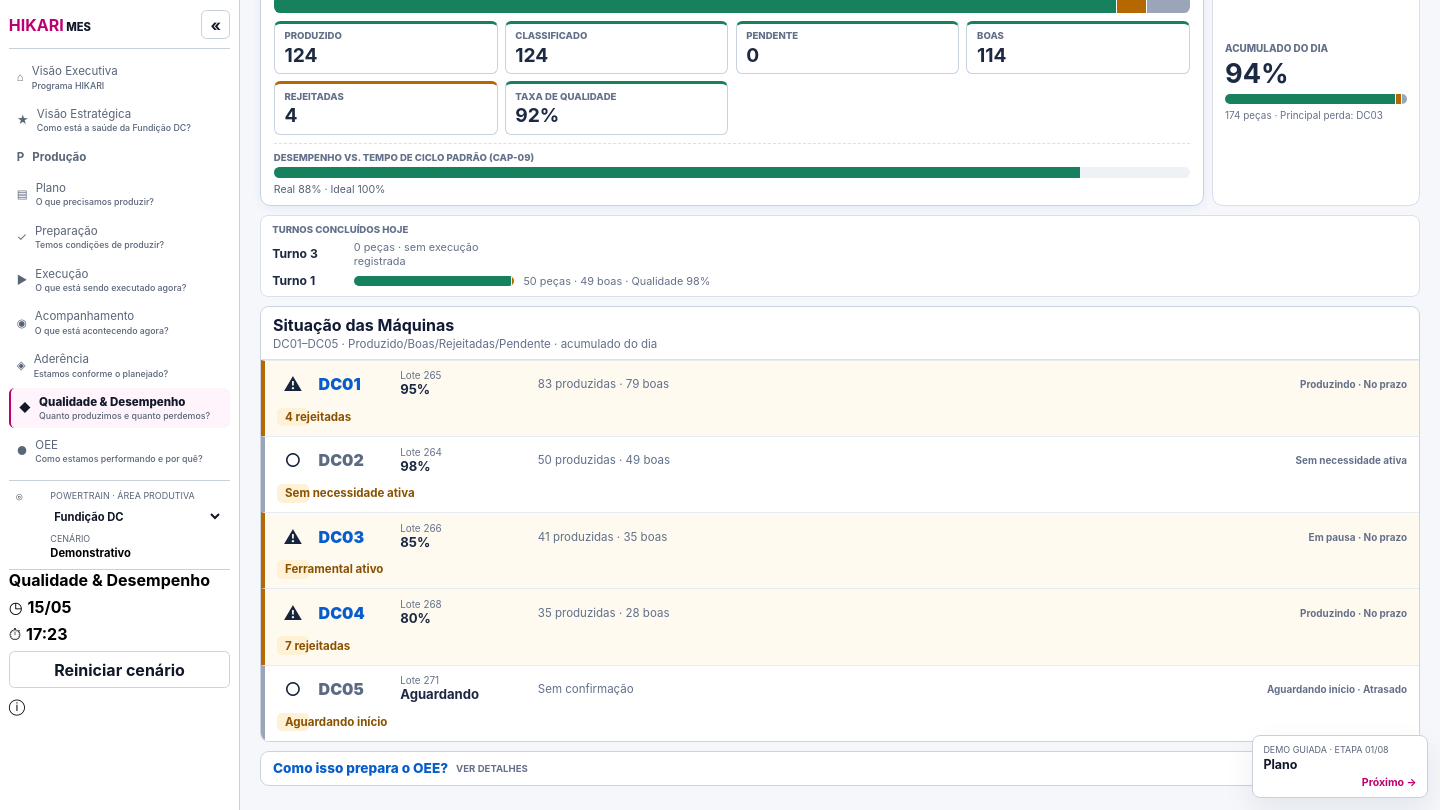
Test: opens the Qualidade & Performance drill-down without execution controls
(page scrolled)
Click the button "DC04" at [342, 613], box [261,588,1419,665]
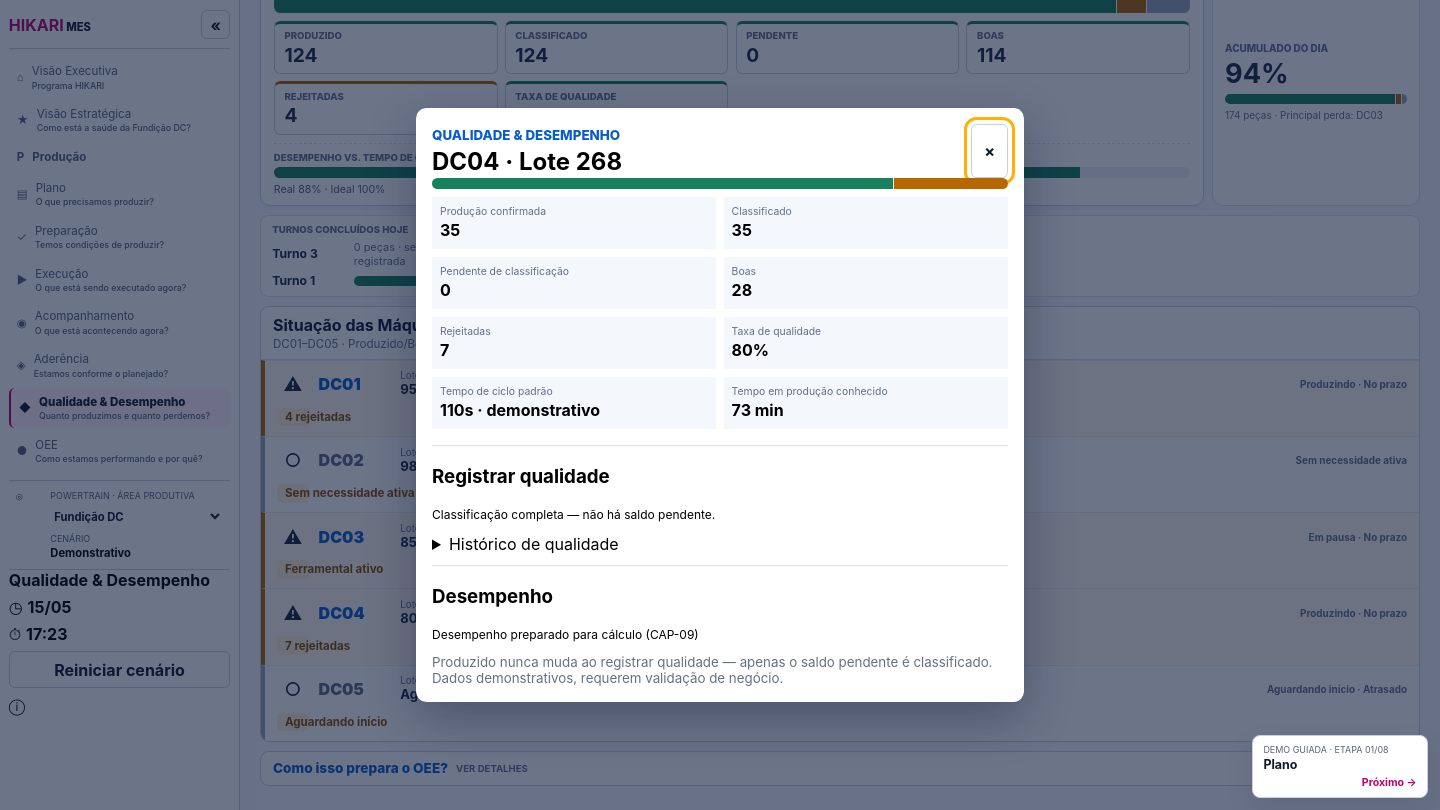
Expected: the dialog "DC04" shows "Taxa de qualidade", [732,325,821,338]
Expected: the dialog "DC04" shows "Tempo de ciclo padrão", [440,385,553,398]
